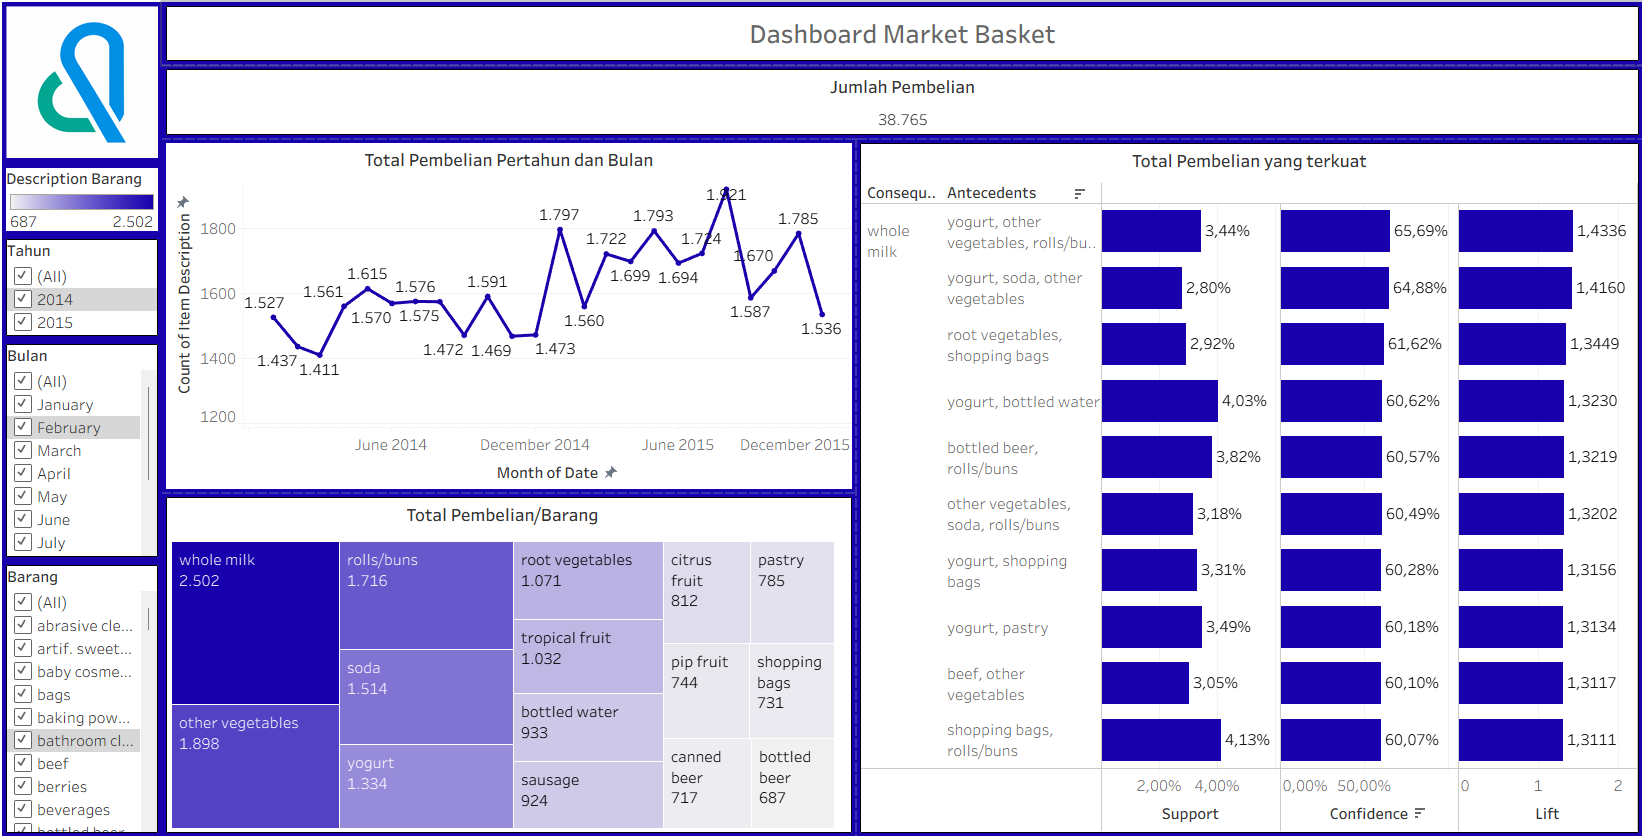

Layout of this report page (visuals, bound fields, positions):
{"tool":"tableau","page":{"name":"Dashboard 1","canvas":[1000,1000],"units":"permille","ordinal":0},"visuals":[{"type":"image","param":"C:/Users/rakad/Pyton/Oktober/Market Basket/Intertwined Cyan and Teal Loop Emblem","box":[4.8,9.4,96.5,190.4]},{"type":"text","box":[101.4,9.4,893.8,74]},{"type":"worksheet","title":"card1","mark":"Automatic","box":[101.4,83.4,893.8,87]},{"type":"worksheet","title":"Line1","mark":"Line","rows":["itemDescription"],"cols":["Date"],"box":[101.4,170.4,418.9,416.6]},{"type":"worksheet","title":"Bar1","mark":"Automatic","rows":["consequents","antecedents"],"cols":["support","confidence","lift"],"box":[520.2,170.4,474.9,820.2]},{"type":"legend","title":"Treemap","param":"[federated.1qrn4ec0p7duky1absnu11bbuzux].[cnt:itemDescription:qk]","box":[4.8,199.8,96.5,83.4]},{"type":"filter","title":"Treemap","param":"[federated.1qrn4ec0p7duky1absnu11bbuzux].[yr:Date:ok]","box":[4.8,283.2,96.5,123.4]},{"type":"filter","title":"Treemap","param":"[federated.1qrn4ec0p7duky1absnu11bbuzux].[mn:Date:ok]","box":[4.8,406.6,96.5,233.8]},{"type":"worksheet","title":"Treemap","mark":"Automatic","box":[101.4,586.9,418.9,403.7]},{"type":"filter","title":"Treemap","param":"[federated.1qrn4ec0p7duky1absnu11bbuzux].[none:itemDescription:nk]","box":[4.8,640.4,96.5,350.2]}]}

Visuals, with their boxes on the dashboard's canvas, which has no fixed pixel size, in thousandths of its width and height (x1, y1, x2, y2). These are canvas units, not pixel positions in the 1642x836 screenshot, which may show the page scaled, cropped or inside an application window:
image: l=5, t=9, r=101, b=200
text: l=101, t=9, r=995, b=83
"card1" worksheet: l=101, t=83, r=995, b=170
"Line1" worksheet (Line marks): l=101, t=170, r=520, b=587
"Bar1" worksheet: l=520, t=170, r=995, b=991
"Treemap" legend: l=5, t=200, r=101, b=283
"Treemap" filter: l=5, t=283, r=101, b=407
"Treemap" filter: l=5, t=407, r=101, b=640
"Treemap" worksheet: l=101, t=587, r=520, b=991
"Treemap" filter: l=5, t=640, r=101, b=991
